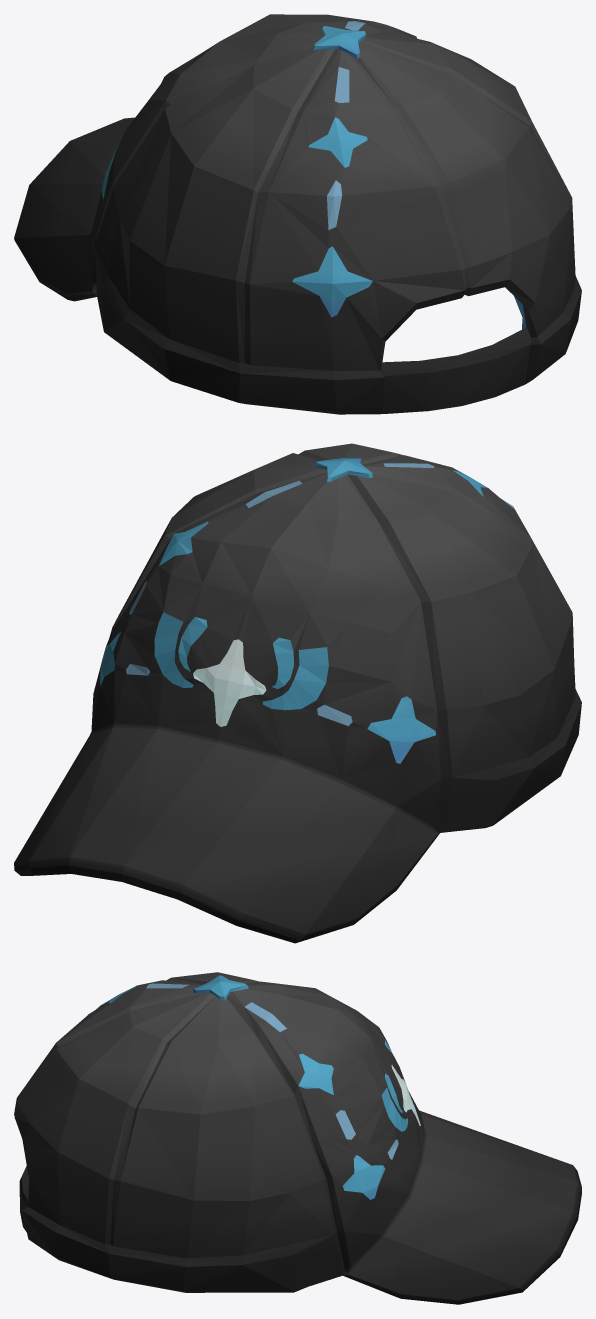
File: CharSkyKid_Hat_AwardShowHat_07.glb
The picture shows the model from 3 angles, top to bottom: view 1: azimuth 30°, elevation 25°; view 2: azimuth 150°, elevation 25°; view 3: azimuth 270°, elevation 25°; orthographic projection. The views are drawn at different scales.
Parts seen in each view (by area): view 1: CharSkyKid_Hat_AwardShowHat_07; view 2: CharSkyKid_Hat_AwardShowHat_07; view 3: CharSkyKid_Hat_AwardShowHat_07.
Boxes of the visible parts, box(x1,y1,x2,y2) form: CharSkyKid_Hat_AwardShowHat_07: box(14, 14, 581, 414); CharSkyKid_Hat_AwardShowHat_07: box(14, 443, 581, 943); CharSkyKid_Hat_AwardShowHat_07: box(14, 972, 581, 1304).
Bounding box in the file's own units: 3.19 × 2.39 × 4.69.
Materials: 1 (1 with a texture image).
